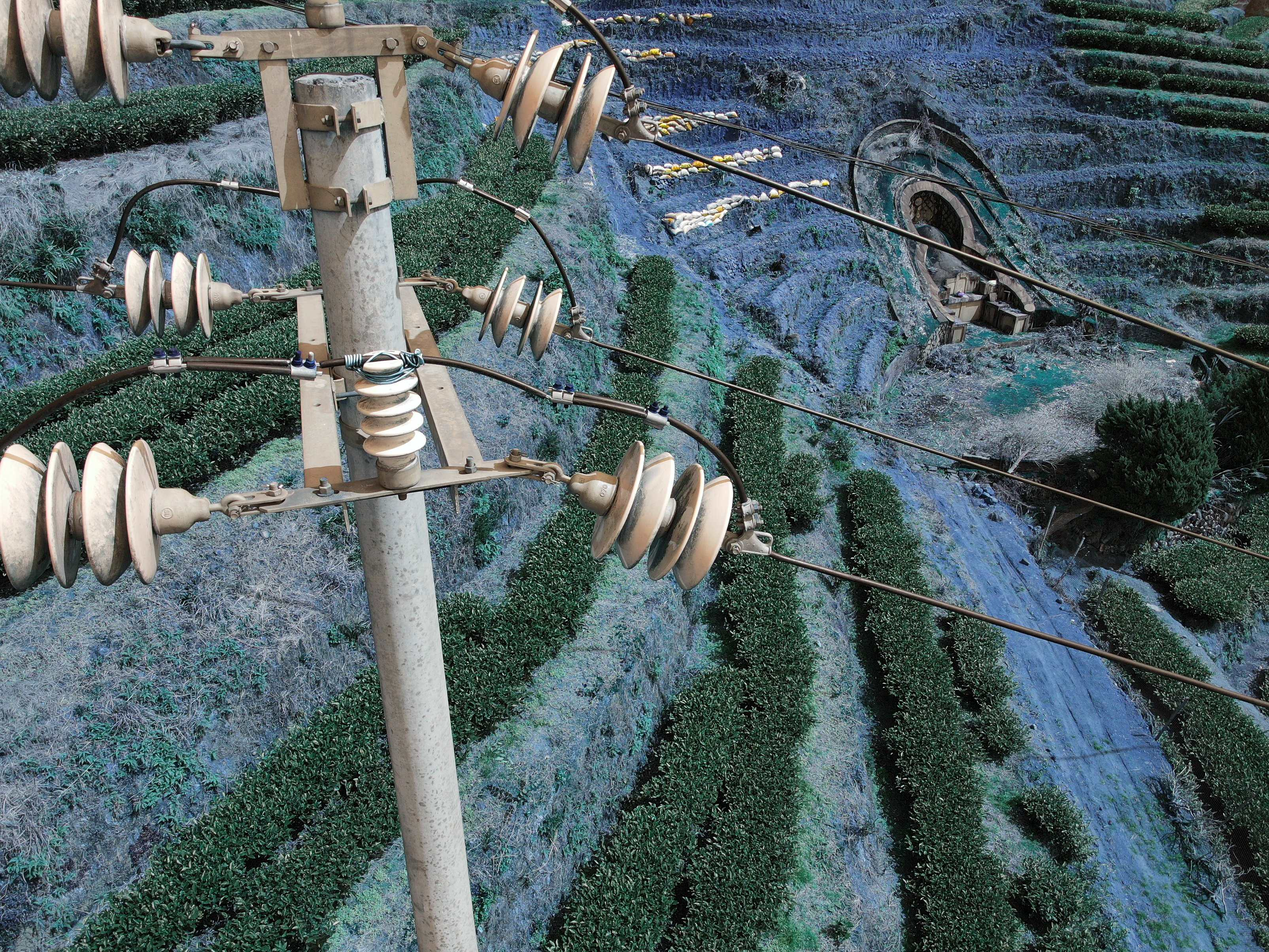severe_soiling_no_discharge_whole: (8, 431, 207, 588), (578, 438, 738, 592), (469, 24, 618, 180), (2, 4, 170, 109), (349, 348, 432, 487), (121, 247, 240, 339), (461, 265, 563, 363)
